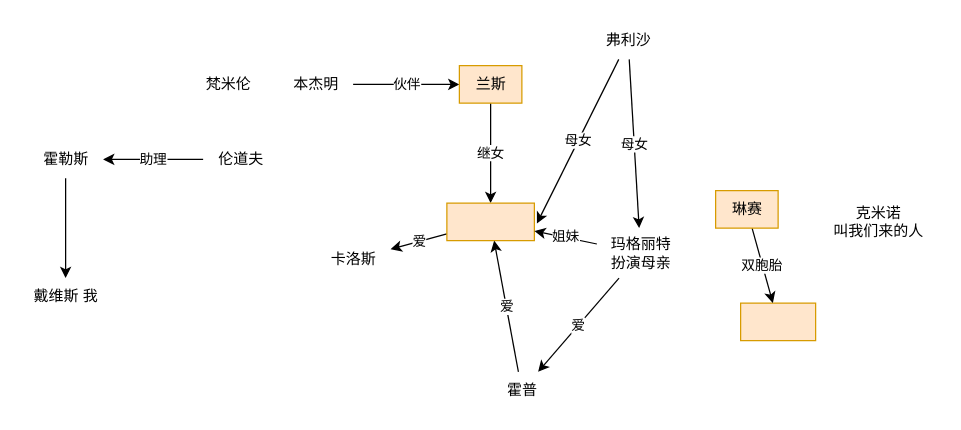
The diagram is 961 pixels wide and 430 high, and some of its shapes have lost their labels. The shapes that lost their labels are listed below. From the top down, each one's box as (x1, y1, x2, y2) in pixels, then its label:
(446, 202, 534, 241): 安吉丽娜
(739, 302, 816, 341): 索菲亚
